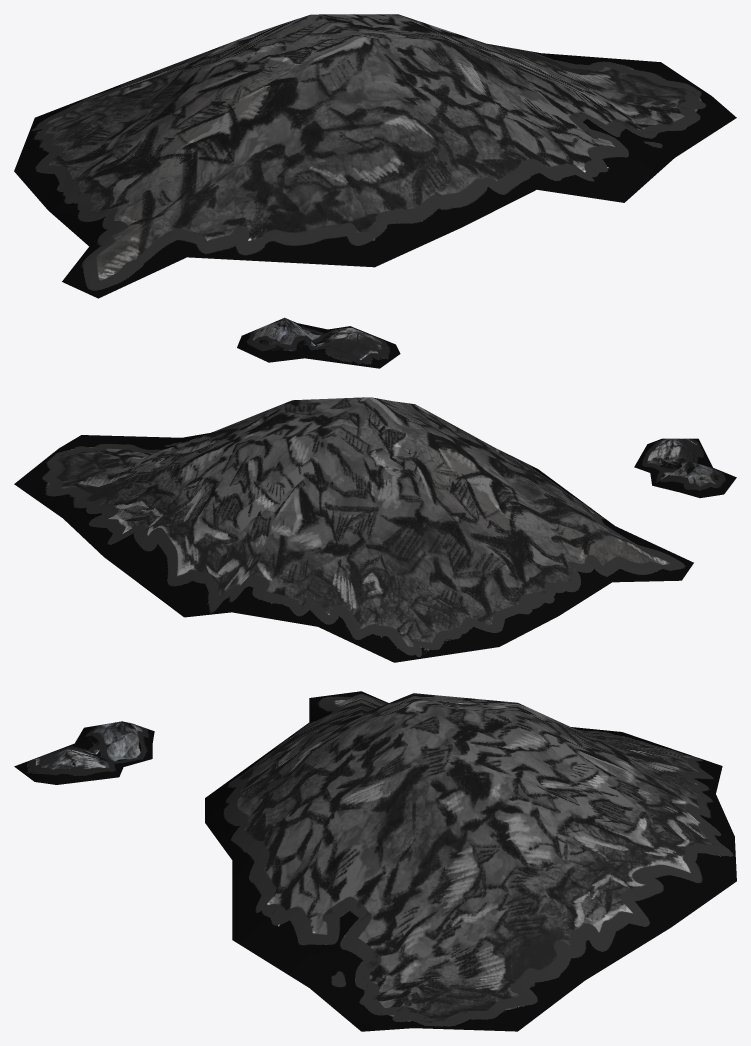
Rendered from Coal.glb.
3 views of the same model, one above another, from view 1: azimuth 30°, elevation 25°; view 2: azimuth 150°, elevation 25°; view 3: azimuth 270°, elevation 25° (orthographic). The views are drawn at different scales.
Parts seen in each view (by area): view 1: Plane.001; view 2: Plane.001; view 3: Plane.001.
Boxes of the visible parts, x1=… form: Plane.001: x1=14, y1=14, x2=736, y2=368; Plane.001: x1=14, y1=397, x2=736, y2=662; Plane.001: x1=14, y1=691, x2=736, y2=1031.
Size of the model in its own units: 1.93 by 0.4007 by 1.73.
1 material, 1 textured.
